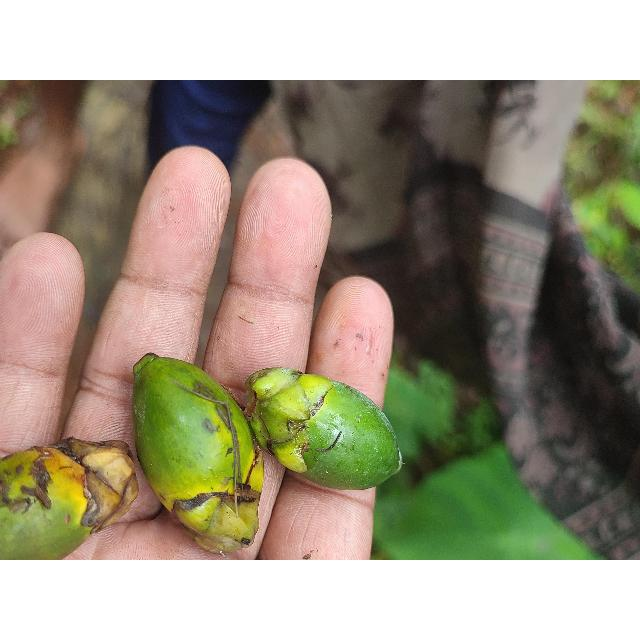damaged: (131, 354, 263, 553), (247, 369, 403, 492), (0, 440, 144, 560)
